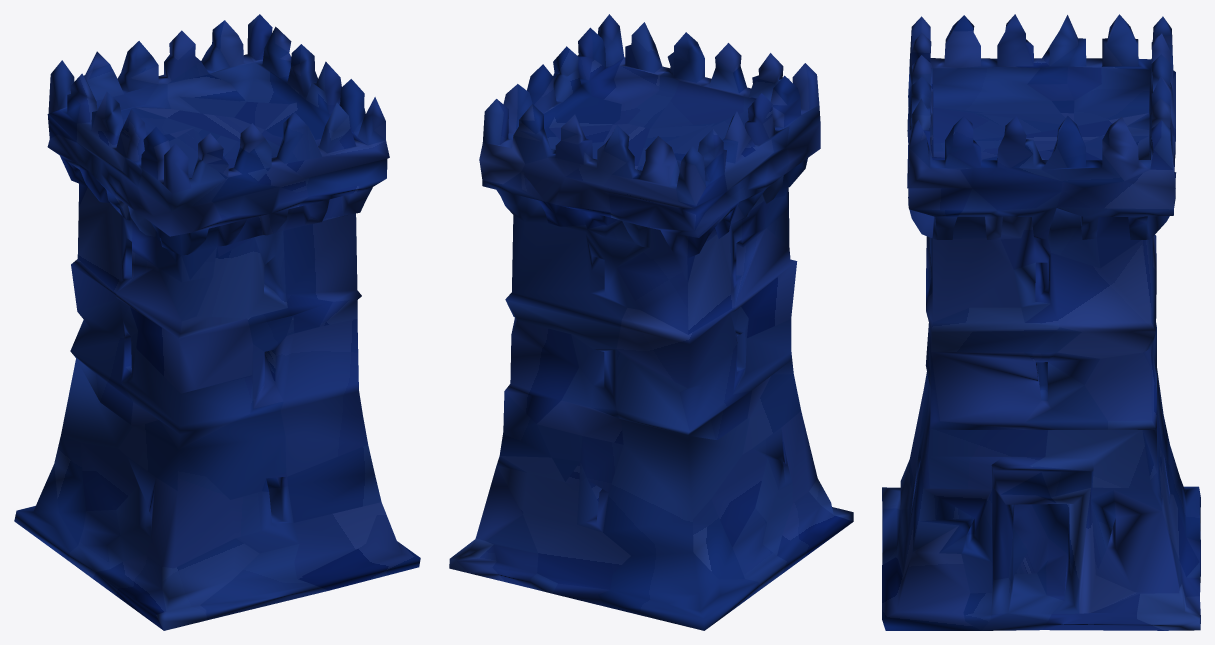
The model's file is castle_tower_medium_diamond_blue_lo.glb.
3 views of the same model, side by side, from view 1: azimuth 30°, elevation 25°; view 2: azimuth 150°, elevation 25°; view 3: azimuth 270°, elevation 25° (orthographic). The views are drawn at different scales.
Parts seen in each view (by area): view 1: tripo_node_84b45226-6fbc-44c7-b110-8e662bd56f26; view 2: tripo_node_84b45226-6fbc-44c7-b110-8e662bd56f26; view 3: tripo_node_84b45226-6fbc-44c7-b110-8e662bd56f26.
Boxes of the visible parts, <box> form: tripo_node_84b45226-6fbc-44c7-b110-8e662bd56f26: <box>14,14,420,630</box>; tripo_node_84b45226-6fbc-44c7-b110-8e662bd56f26: <box>449,14,853,630</box>; tripo_node_84b45226-6fbc-44c7-b110-8e662bd56f26: <box>882,14,1200,630</box>.
Bounding box in the file's own units: 0.5641 × 0.9799 × 0.5673.
1 material, 1 textured.
